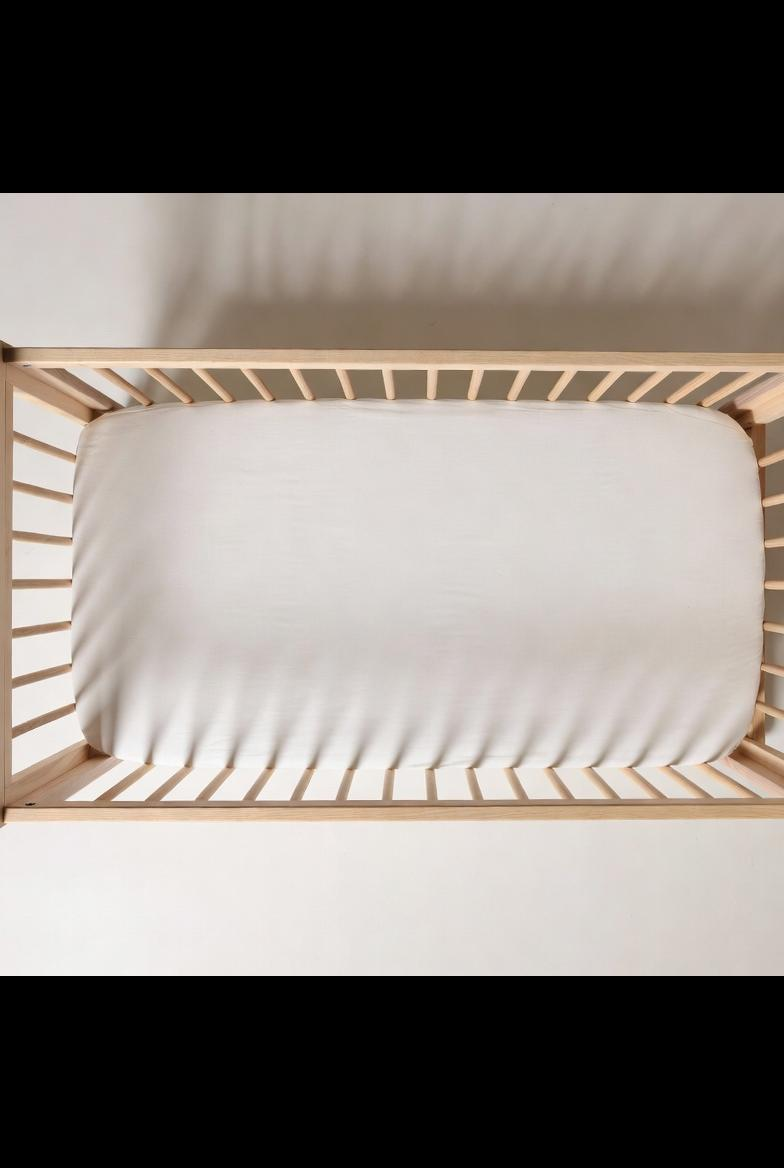crib: (0, 333, 784, 834)
